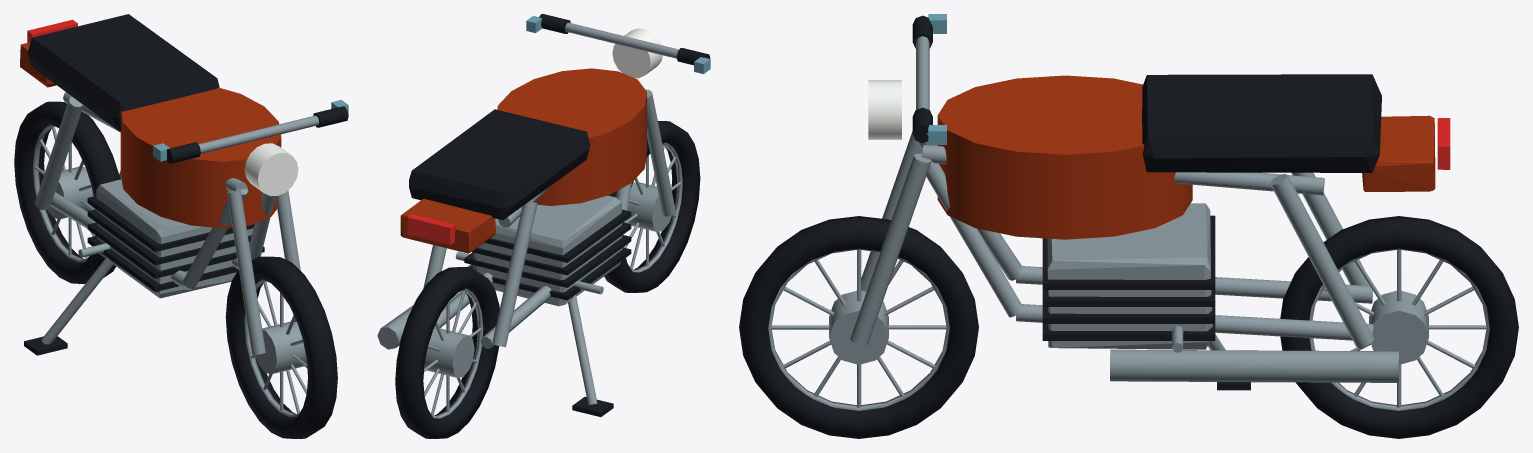
File: motorbike_hd.glb
The picture shows the model from 3 angles, left to right: view 1: azimuth 30°, elevation 25°; view 2: azimuth 150°, elevation 25°; view 3: azimuth 270°, elevation 25°; orthographic projection. The views are drawn at different scales.
Parts seen in each view (by area): view 1: body, wheel_F, wheel_R; view 2: body, wheel_R, wheel_F; view 3: body, wheel_F, wheel_R.
Part boxes in pixels (x1,y1,x2,y2): body: (20, 14, 348, 355); wheel_F: (225, 256, 337, 438); wheel_R: (14, 101, 120, 283); body: (377, 14, 710, 416); wheel_R: (395, 267, 499, 438); wheel_F: (604, 121, 700, 292); body: (850, 14, 1450, 390); wheel_F: (739, 216, 978, 438); wheel_R: (1280, 216, 1518, 438).
Size of the model in its own units: 0.75 by 1.04 by 2.
